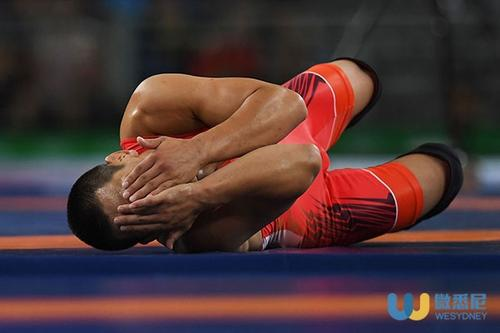fall: (55, 35, 460, 264)
